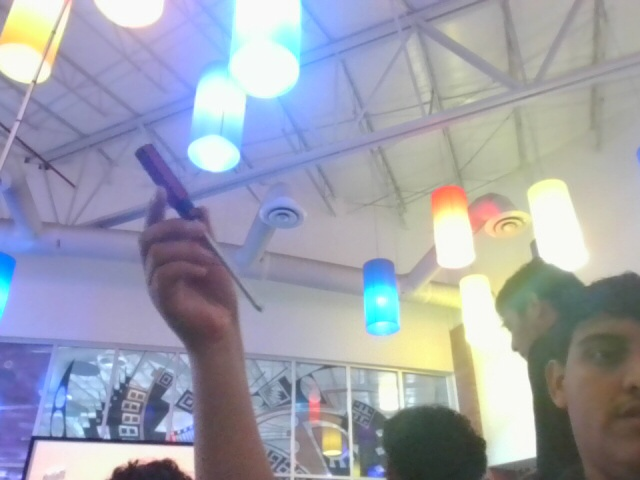destornillador: (131, 142, 261, 311)
